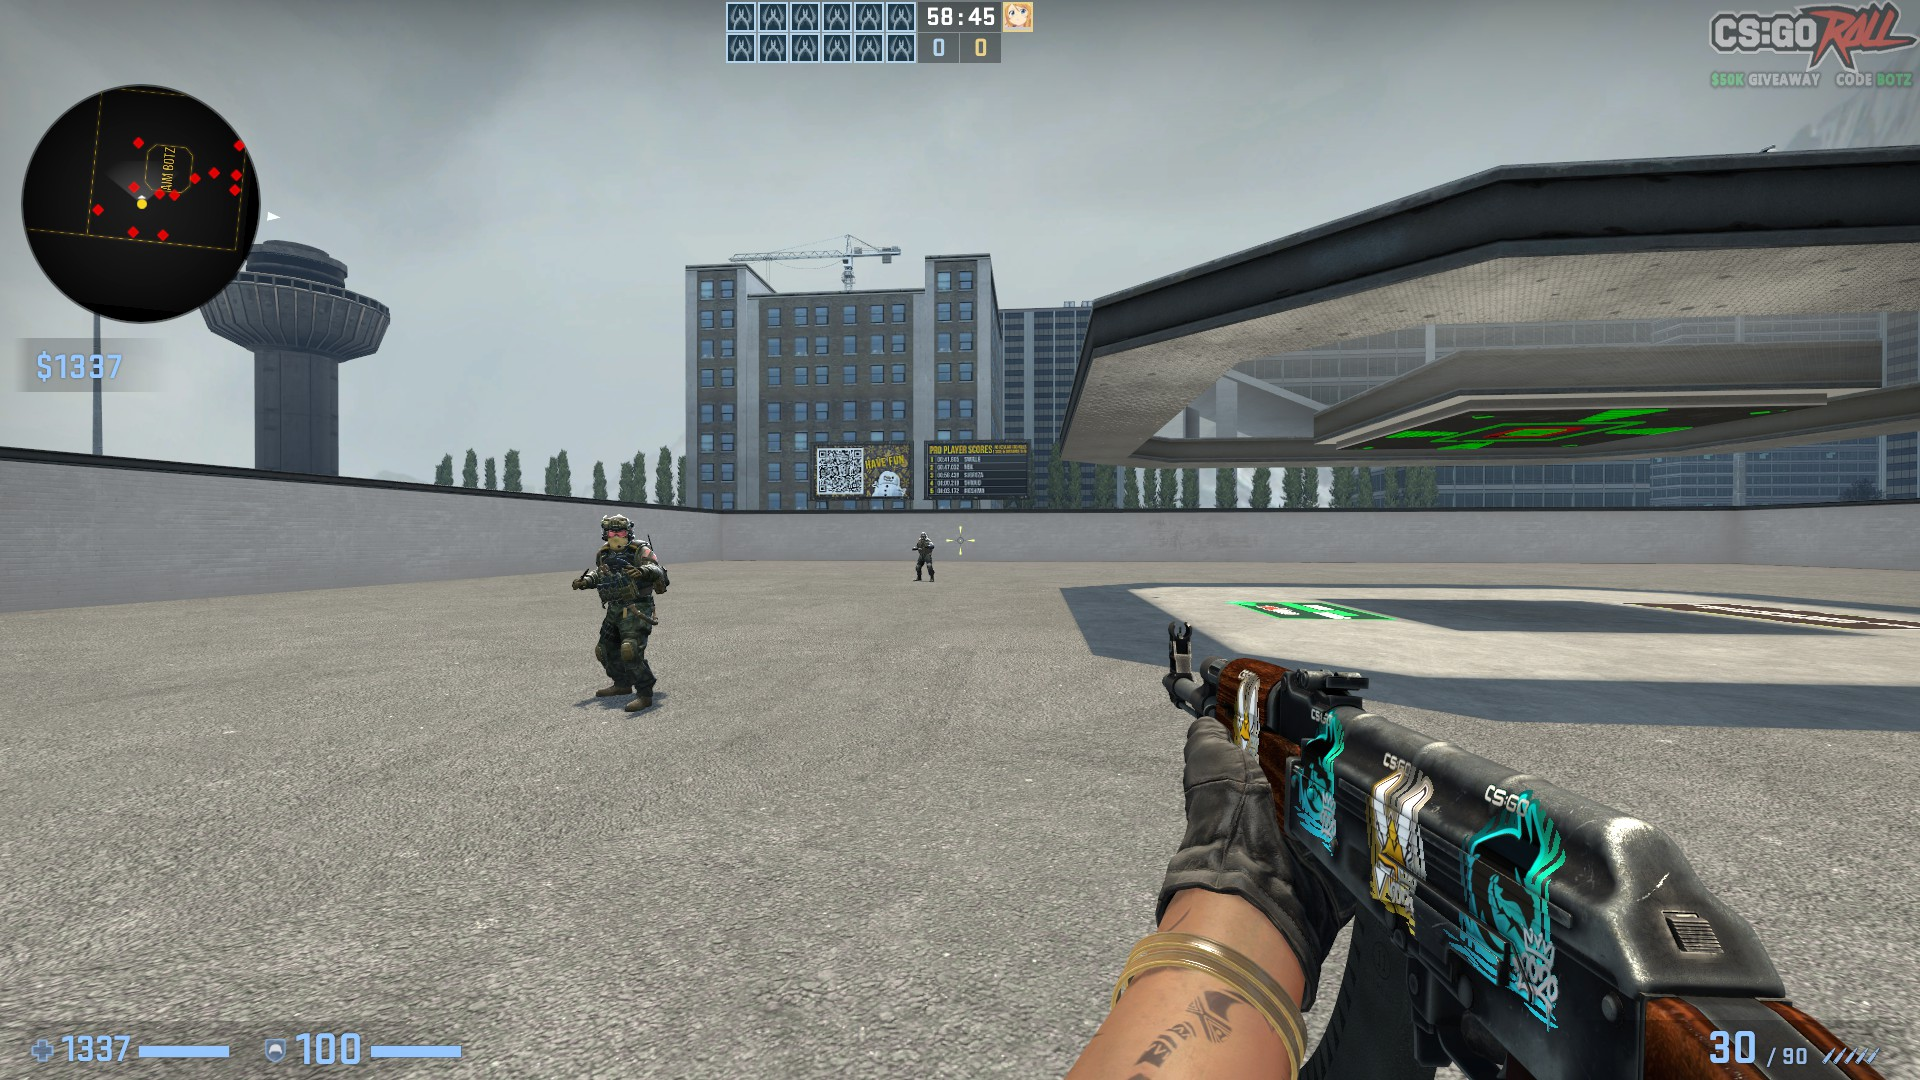head: (598, 515, 634, 553), (919, 531, 926, 539)
